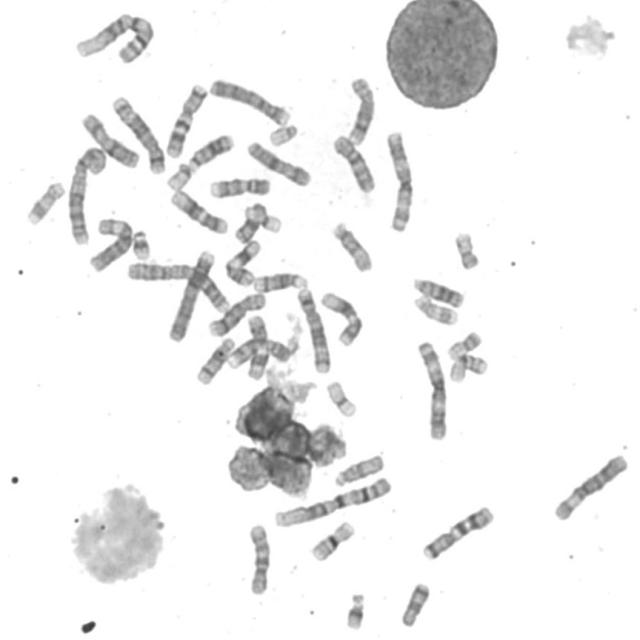A1: (270, 471, 392, 529), (70, 8, 156, 64)
A2: (122, 256, 234, 314), (63, 141, 108, 246)
A3: (413, 336, 450, 441), (382, 126, 416, 234)
B4: (163, 245, 217, 343), (205, 74, 293, 127)
B5: (108, 91, 168, 175), (292, 283, 332, 375)
C10: (328, 130, 378, 194), (243, 518, 273, 597)
C11: (221, 235, 263, 288), (242, 310, 270, 382)
C12: (166, 184, 230, 236), (317, 287, 364, 348)
C6: (549, 449, 630, 522), (85, 213, 135, 273)
C7: (417, 500, 496, 562), (162, 78, 210, 159)
C8: (205, 288, 268, 338), (343, 71, 377, 147)
C9: (223, 332, 301, 370), (205, 173, 273, 200)
D13: (185, 129, 236, 171), (409, 273, 466, 309)
D14: (192, 332, 236, 387), (249, 267, 310, 294)
D15: (328, 218, 375, 274), (330, 449, 386, 489)
E16: (306, 516, 356, 563), (445, 350, 490, 384)
E17: (22, 177, 66, 226), (410, 291, 460, 327)
E18: (396, 578, 432, 628), (235, 204, 269, 240)
F19: (322, 377, 359, 419), (243, 208, 284, 230)
F20: (451, 226, 482, 271), (443, 326, 484, 360)
G21: (342, 588, 368, 632), (128, 226, 152, 261)
G22: (163, 158, 194, 192), (265, 120, 300, 147)
X: (77, 109, 142, 170), (243, 136, 313, 188)
